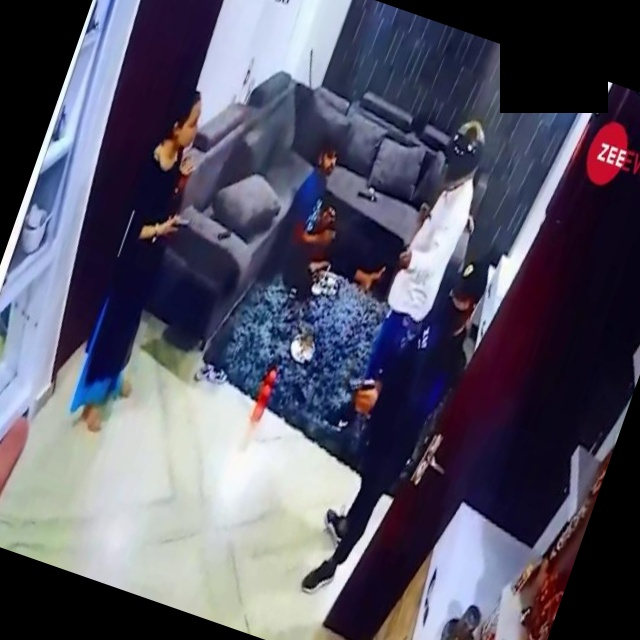gun: (343, 366, 381, 406)
